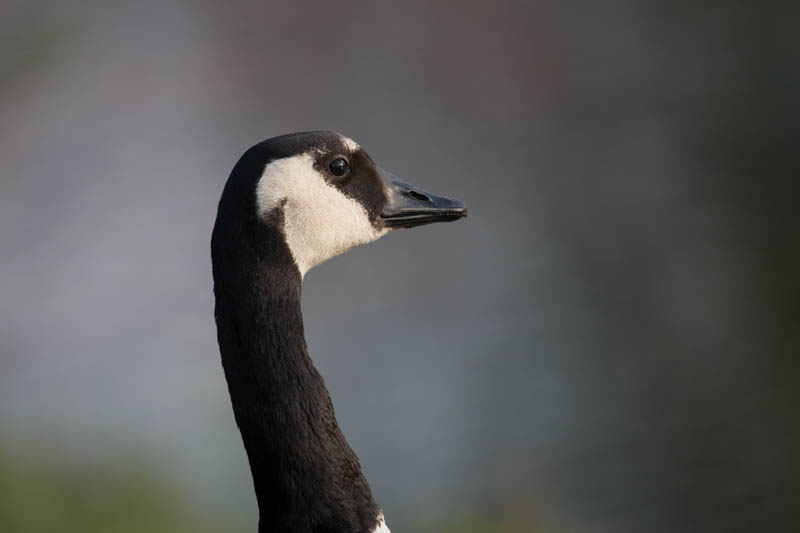goose-head: (211, 131, 468, 282)
